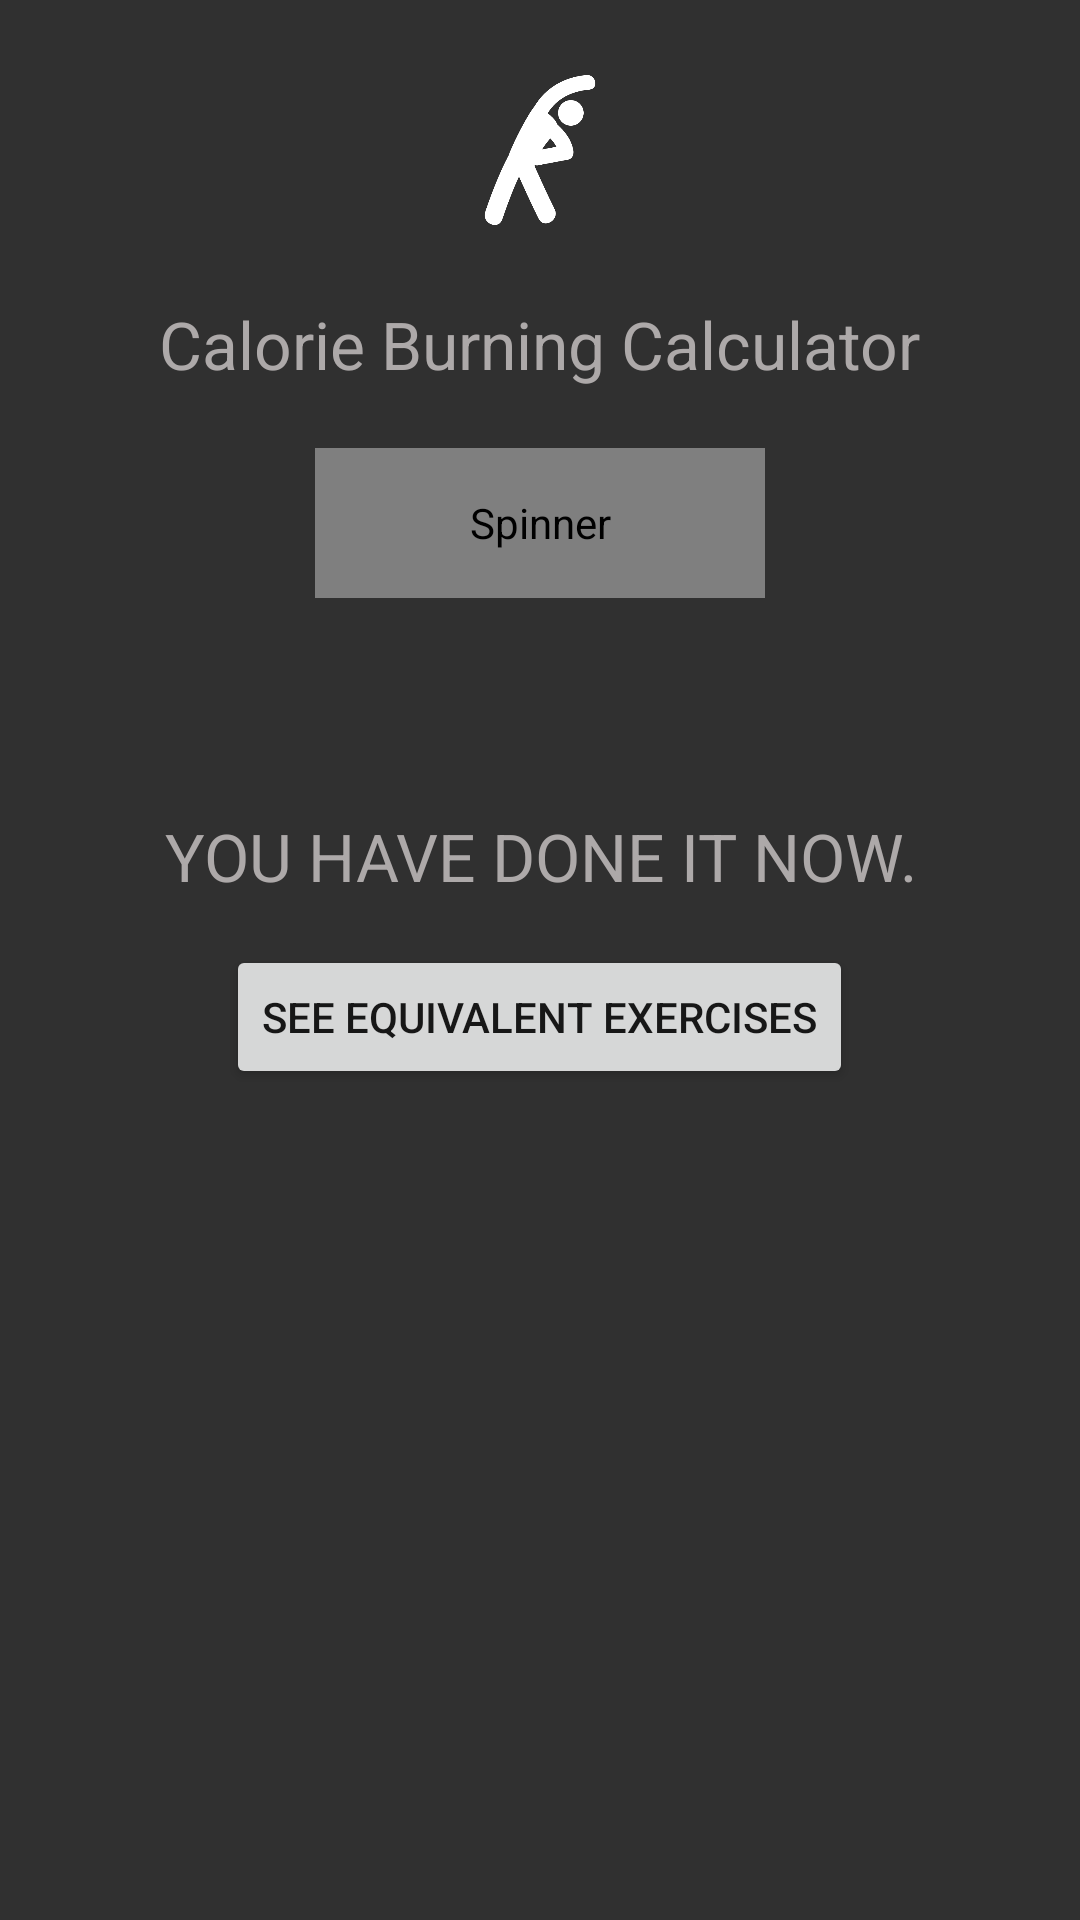

Screen size 1080w x 1920h. Icon name, then its box in pixels as {"x1": x1, "y1": y1, "x2": x2, "y2": y2}:
stretch: {"x1": 485, "y1": 75, "x2": 595, "y2": 225}
